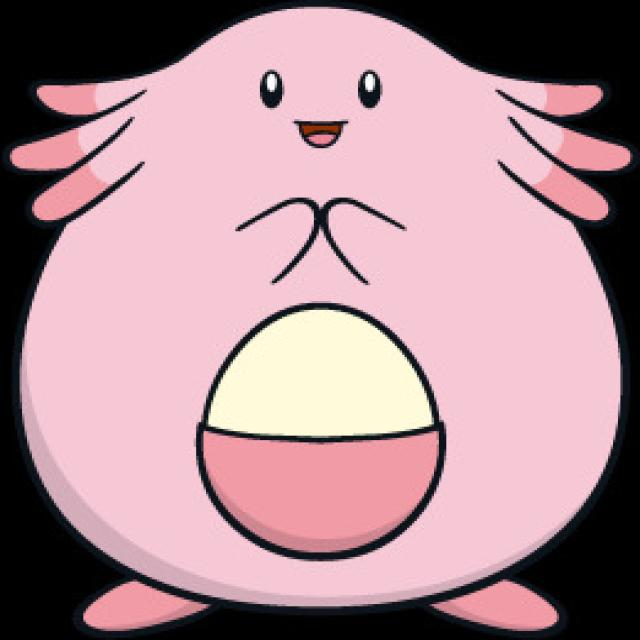Chansey: (12, 7, 630, 625)
